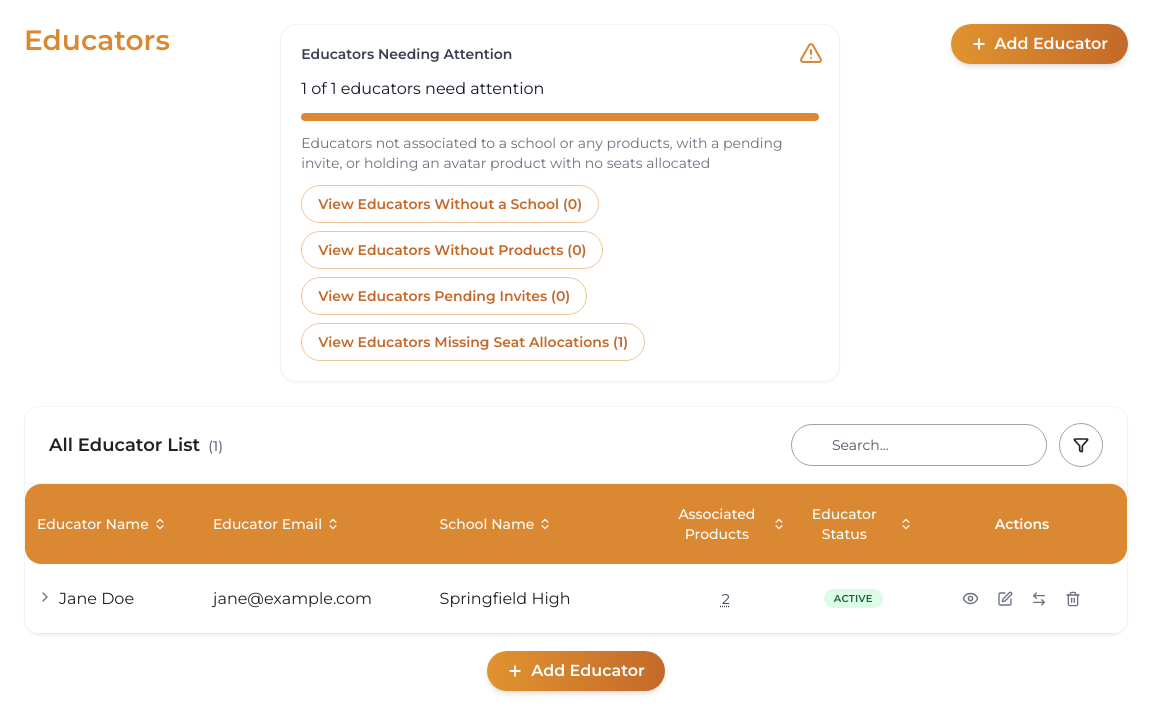
Test: Edit Educator › opens Edit Educator modal
Click the button named "edit".
click(1006, 598)  # box [992,584,1020,612]
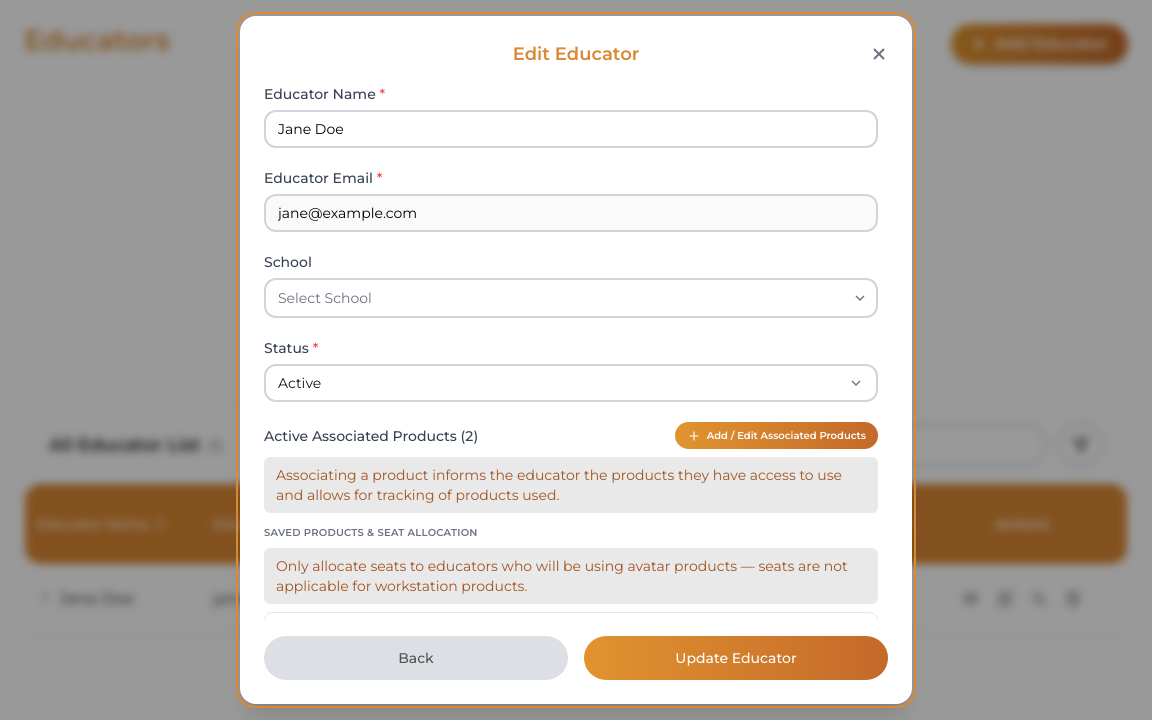
Result: the heading "Edit Educator" is shown at [513,40,639,68]
